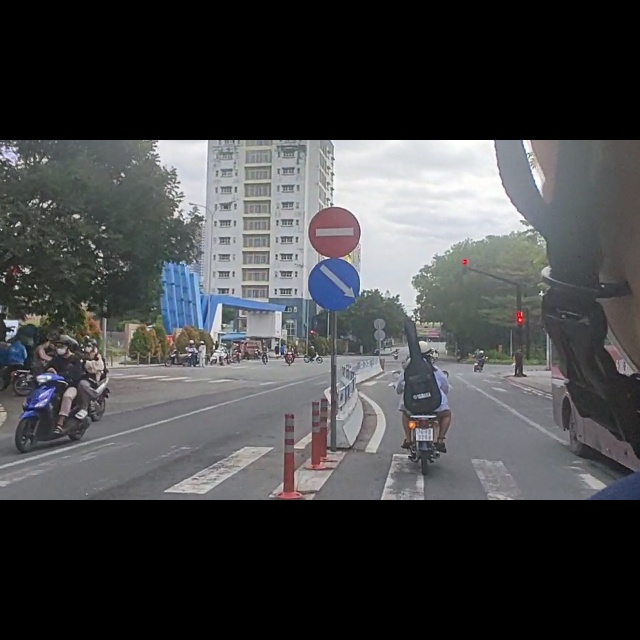bien_hieu_lenh: (308, 115, 361, 211), (309, 210, 363, 303)
